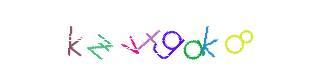8: (199, 0, 279, 80)
A: (154, 0, 234, 80)
G: (129, 0, 209, 80)
K: (51, 0, 131, 80), (167, 0, 247, 80)
T: (114, 0, 194, 80)
V: (108, 0, 188, 80)
Z: (79, 0, 159, 80)
